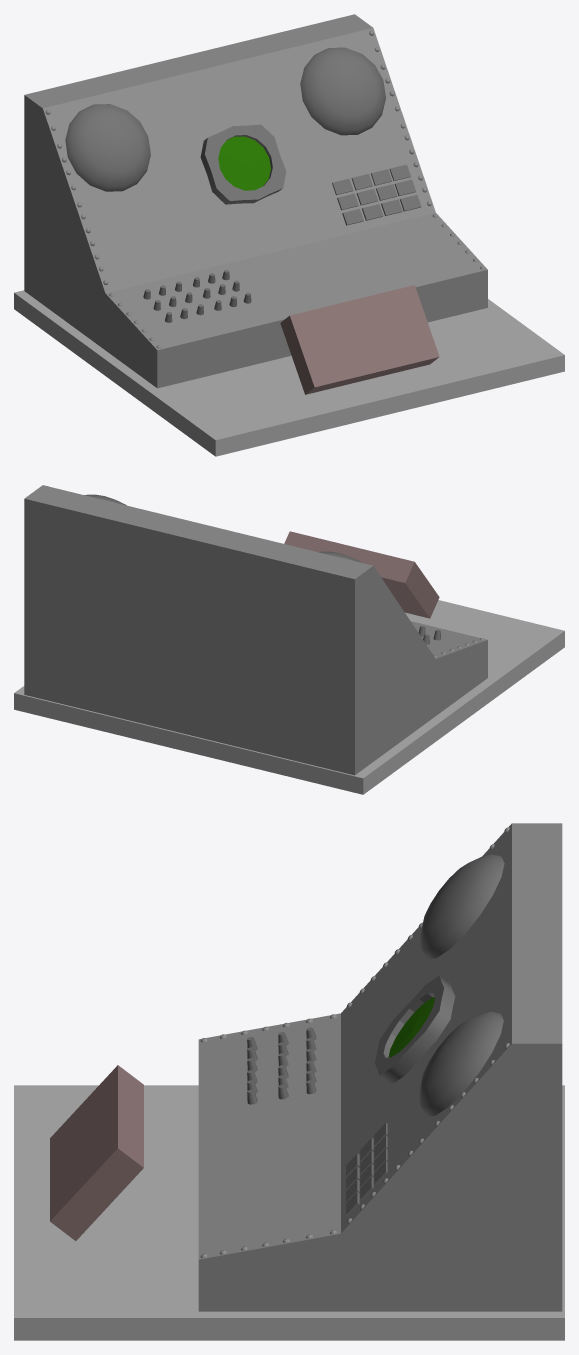
The model's file is WaveformAnalyzer.fbx.
3 renders of one model, top to bottom at view 1: azimuth 30°, elevation 25°; view 2: azimuth 150°, elevation 25°; view 3: azimuth 270°, elevation 25°, orthographic. The views are drawn at different scales.
Visible parts, largest first — view 1: pCube22; view 2: pCube22; view 3: pCube22.
Part boxes in pixels (left/top/right/bottom): pCube22: left=14, top=14, right=564, bottom=456; pCube22: left=14, top=485, right=564, bottom=794; pCube22: left=14, top=823, right=564, bottom=1340.
Size of the model in its own units: 115 by 67.11 by 115.
